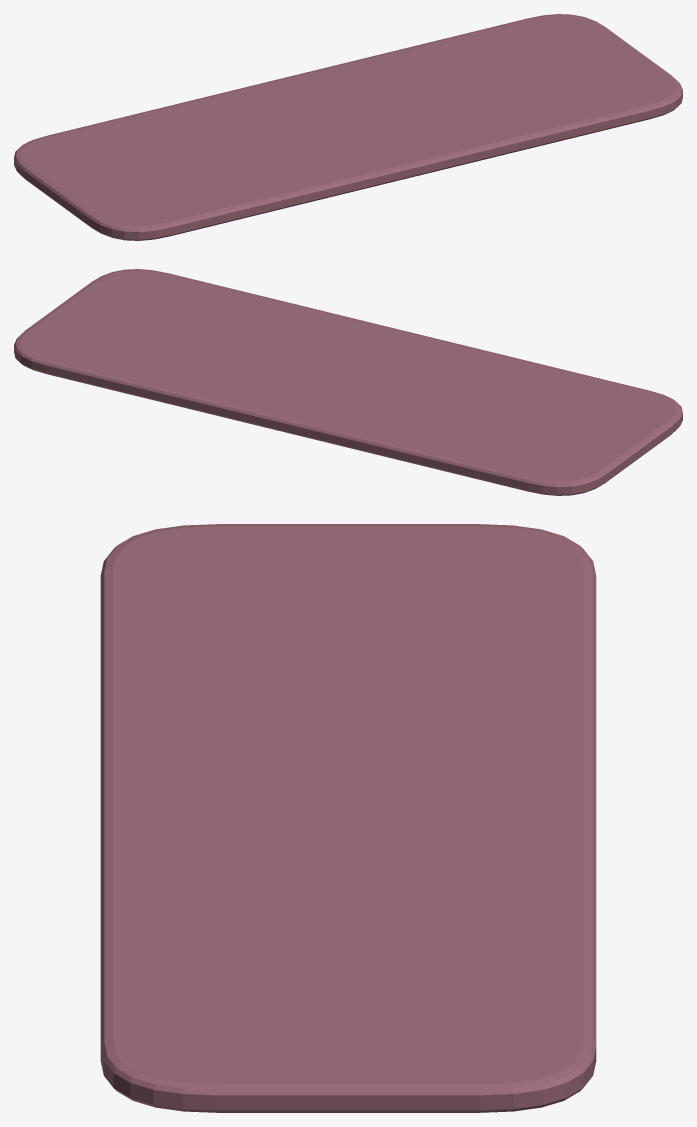
The model's file is bathmat.glb.
3 renders of one model, top to bottom at view 1: azimuth 30°, elevation 25°; view 2: azimuth 150°, elevation 25°; view 3: azimuth 270°, elevation 25°, orthographic. The views are drawn at different scales.
Visible parts, largest first — view 1: bathmat; view 2: bathmat; view 3: bathmat.
Boxes of the visible parts, x1,y1,x2,y2 form: bathmat: (14, 14, 682, 240); bathmat: (14, 269, 682, 495); bathmat: (100, 524, 596, 1112).
Bounding box in the file's own units: 3.23 × 0.07 × 1.19.
